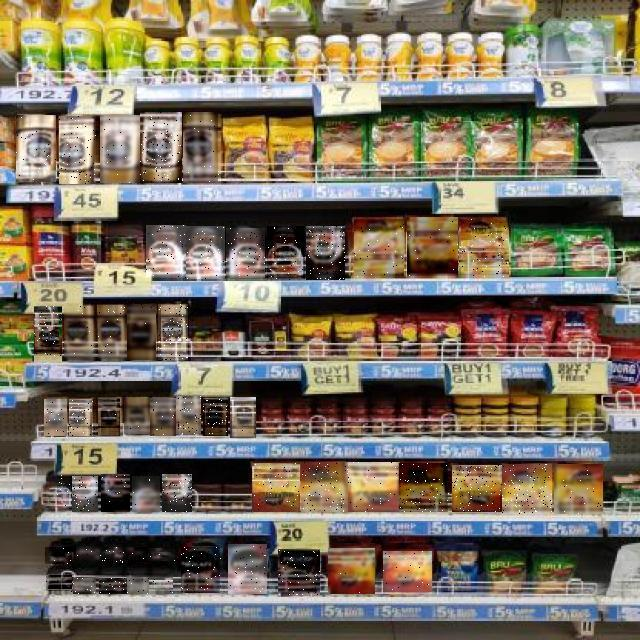Coffee: (407, 218, 458, 278), (140, 112, 182, 183), (459, 220, 509, 278), (354, 220, 404, 278), (100, 115, 140, 183), (16, 115, 56, 182), (60, 116, 98, 184), (184, 112, 220, 183), (349, 462, 400, 512), (502, 464, 552, 514), (400, 463, 450, 512), (554, 464, 603, 514), (302, 462, 350, 512), (252, 463, 300, 512), (452, 465, 502, 512), (328, 548, 375, 594), (146, 226, 186, 280), (306, 226, 345, 280), (186, 226, 225, 279), (267, 226, 305, 280), (383, 551, 432, 592), (228, 544, 267, 594), (226, 228, 265, 278), (278, 550, 320, 596), (182, 547, 222, 593), (158, 305, 188, 361), (127, 305, 156, 361), (98, 305, 127, 361), (35, 306, 63, 362), (64, 306, 93, 360), (162, 474, 192, 512), (101, 474, 130, 512), (230, 397, 256, 438), (44, 474, 71, 512), (132, 476, 160, 512), (150, 398, 176, 436), (70, 399, 96, 436), (176, 397, 201, 435), (203, 398, 228, 436), (125, 398, 151, 434), (73, 477, 99, 513), (44, 399, 67, 436), (98, 398, 120, 436), (46, 576, 72, 594), (45, 547, 72, 564), (99, 578, 127, 594), (100, 548, 126, 564), (76, 547, 99, 565), (126, 577, 149, 594), (149, 578, 173, 594), (74, 578, 98, 594), (126, 548, 148, 564), (150, 548, 175, 561)
